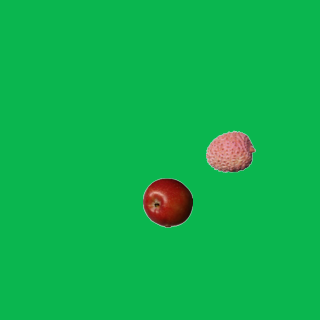Apple Braeburn: (142, 177, 192, 227)
Lychee: (205, 126, 255, 176)
